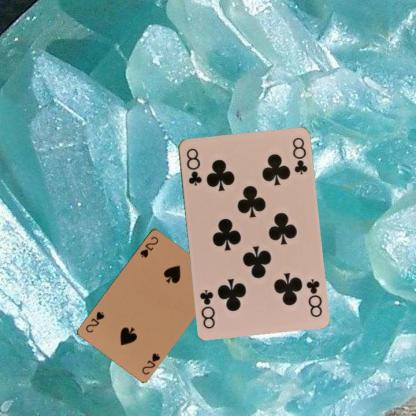2s: (138, 233, 160, 259), (139, 350, 161, 376)
8c: (302, 276, 324, 318), (183, 145, 203, 187)
